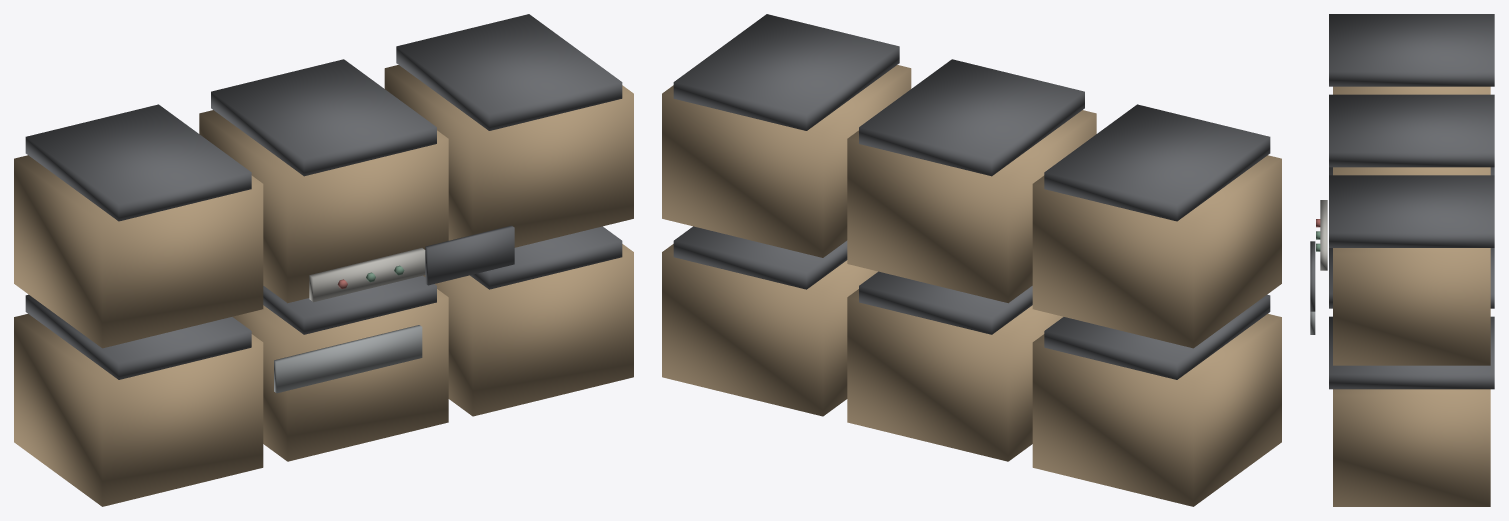
File: market_produce_rack__weathered.glb
3 views of the same model, side by side, from view 1: azimuth 30°, elevation 25°; view 2: azimuth 150°, elevation 25°; view 3: azimuth 270°, elevation 25° (orthographic). The views are drawn at different scales.
Parts seen in each view (by area): view 1: world; view 2: world; view 3: world.
Part boxes in pixels (bbox=[...]): world: bbox=[14, 14, 633, 506]; world: bbox=[662, 14, 1281, 506]; world: bbox=[1310, 14, 1494, 506].
Bounding box in the file's own units: 1.32 × 0.7128 × 0.445.
